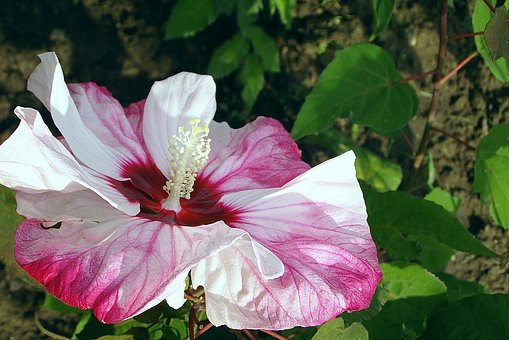Hibiscus: (1, 38, 390, 330)
